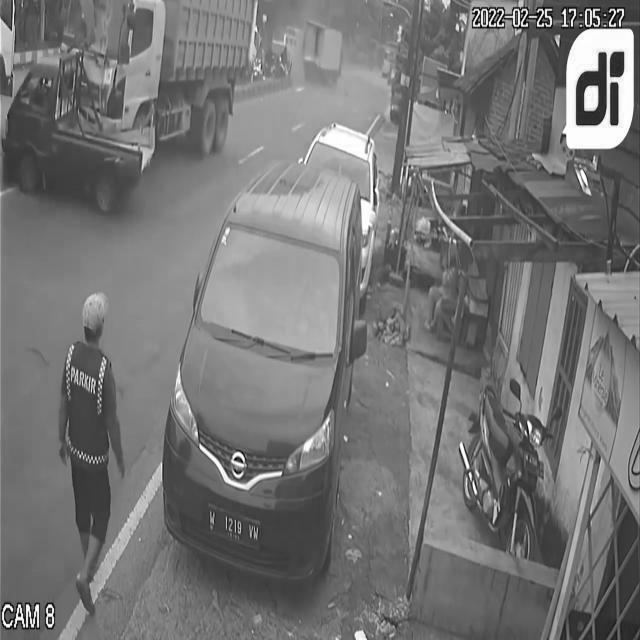accident: (7, 0, 235, 206)
vehicle: (163, 161, 357, 575), (462, 379, 561, 570), (296, 114, 380, 306), (301, 12, 344, 94)
